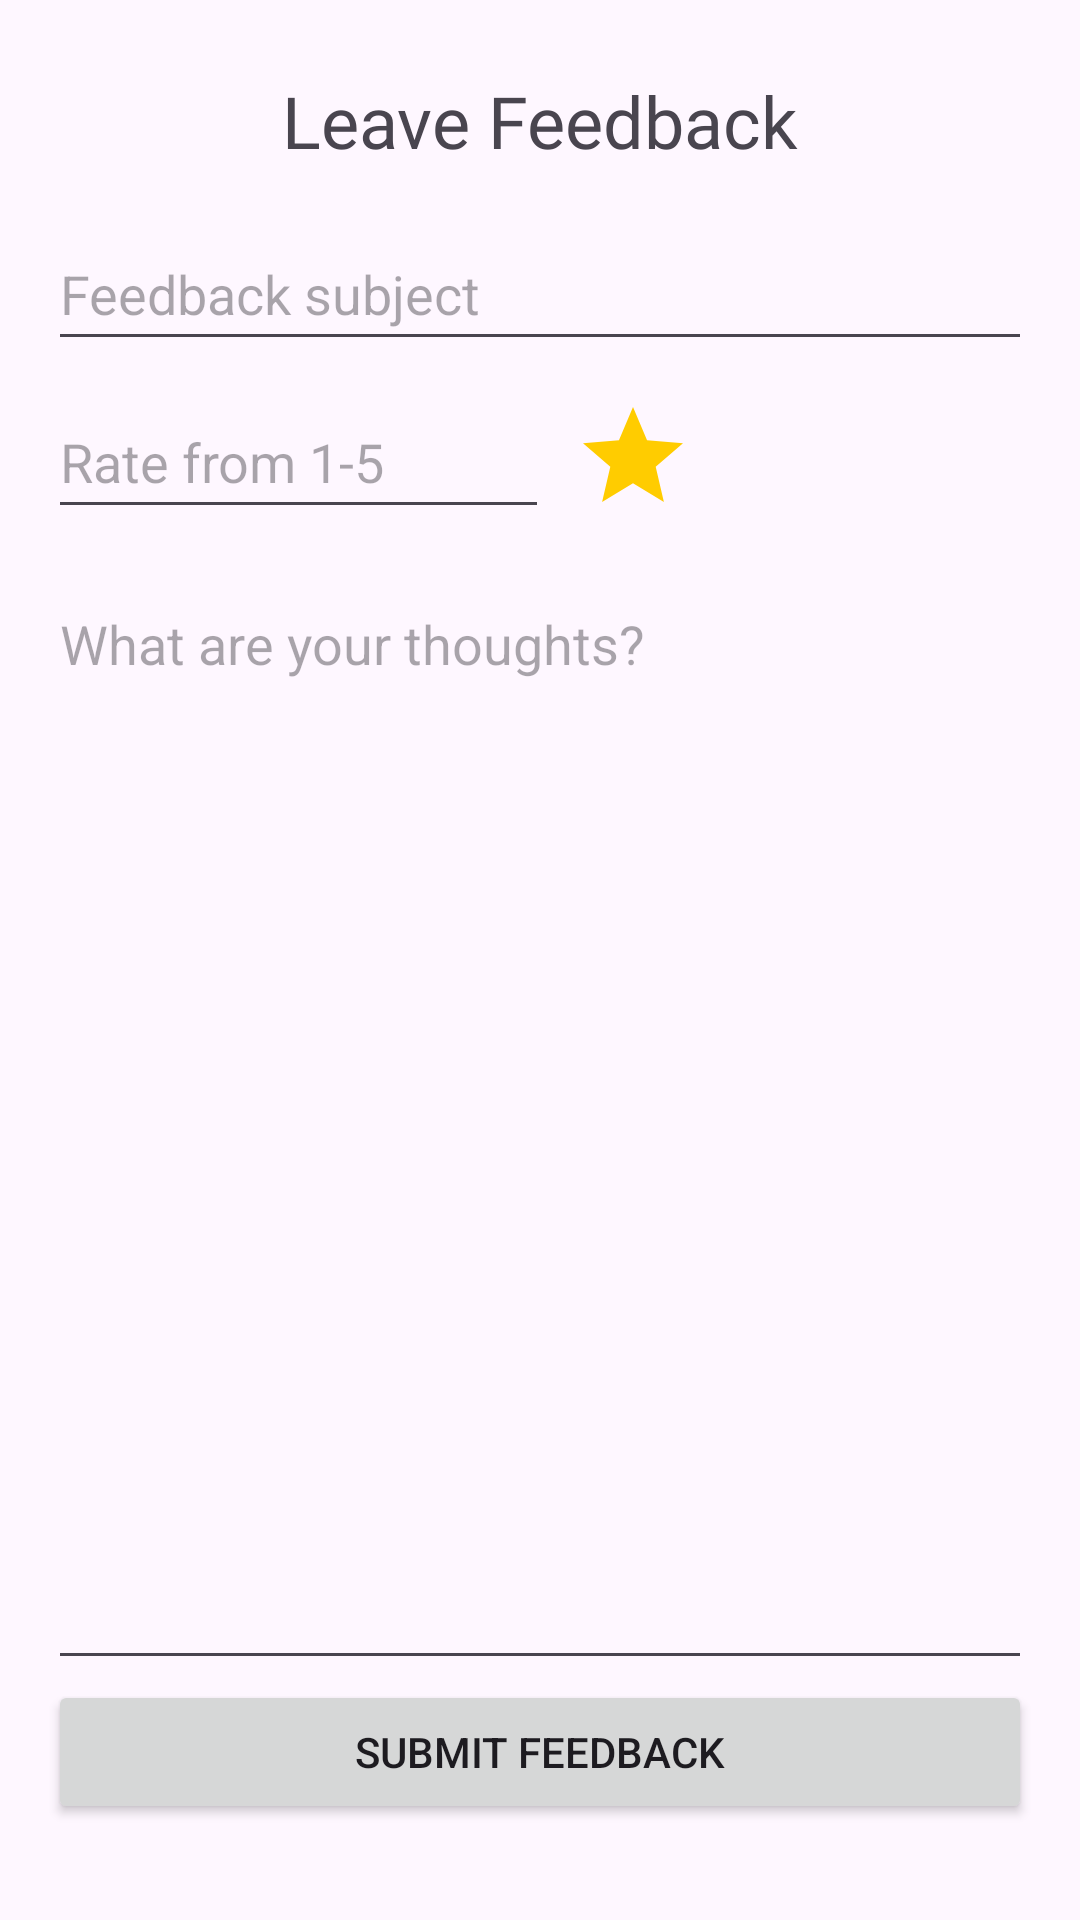

Screen size 1080 × 1920. Icon name, then its box in pixels as (x1, y1, x2, y2):
star: (583, 407, 683, 502)
